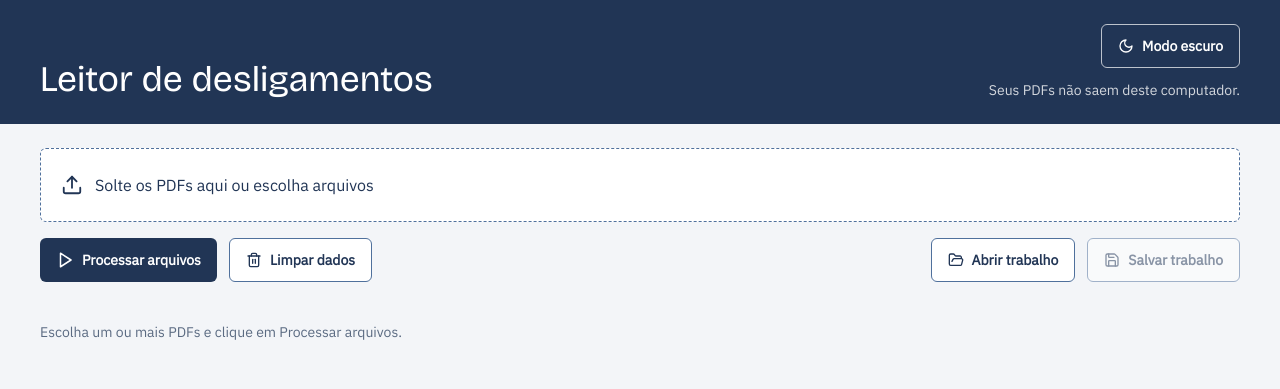
it: App › exige ao menos um PDF para processar
Click the button "Processar arquivos" at (128, 260), box [40, 238, 217, 282]
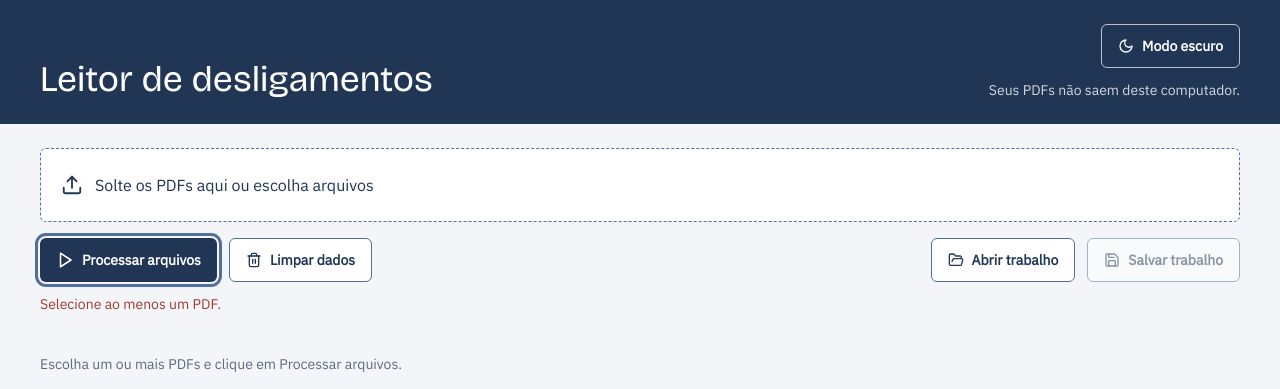
Expected: the text "Selecione ao menos um PDF." is shown, [40, 295, 221, 313]
